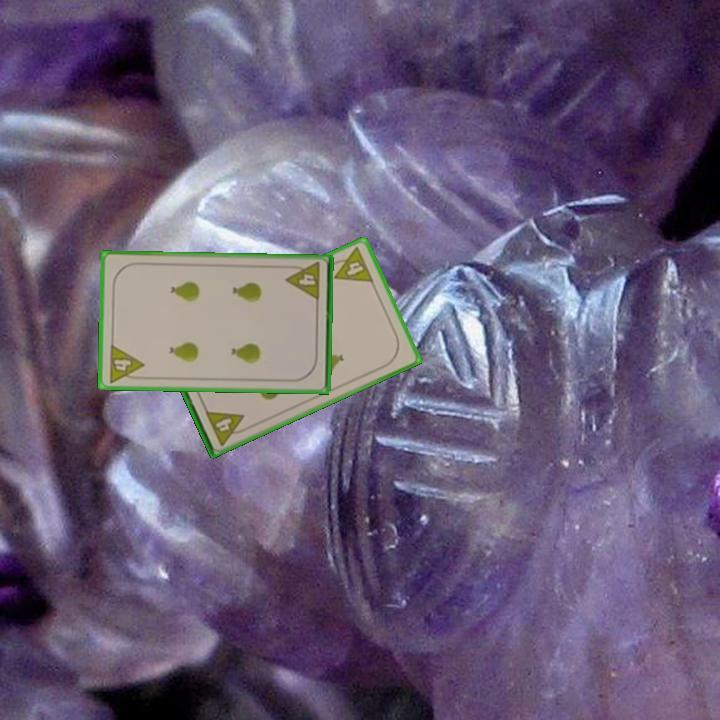4p: (325, 244, 376, 286), (202, 406, 251, 448), (105, 341, 147, 385), (283, 259, 323, 303)
